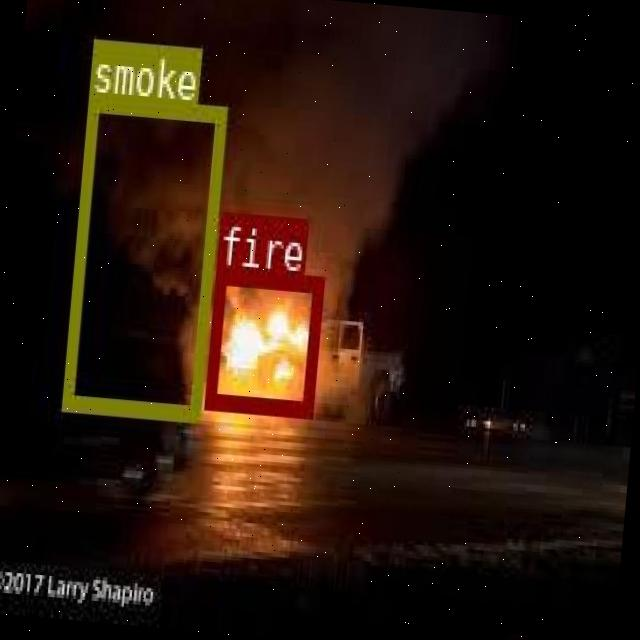fire: (202, 264, 322, 412)
smoke: (61, 94, 224, 420)
